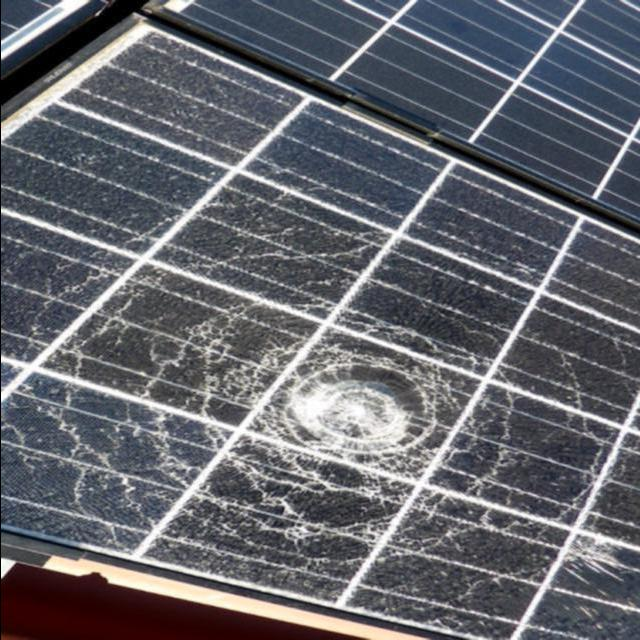cracked: (12, 33, 639, 640)
